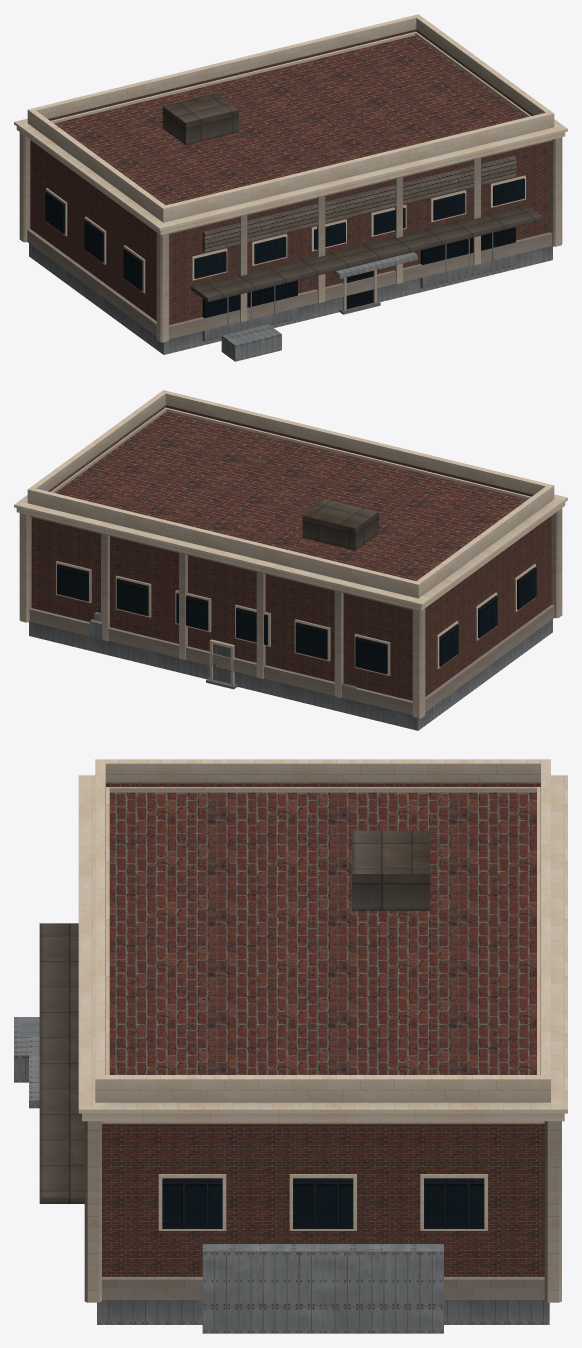
The model's file is maple-hardware-store_lod0.gltf.
3 views of the same model, one above another, from view 1: azimuth 30°, elevation 25°; view 2: azimuth 150°, elevation 25°; view 3: azimuth 270°, elevation 25° (orthographic). The views are drawn at different scales.
Parts seen in each view (by area): view 1: maple-hardware-store_upper, maple-hardware-store__v4_stone_detail, maple-hardware-store__v4_metal_detail, maple-hardware-store_fen_07-glass-curtain-blue_1_t, maple-hardware-store__sign_band, maple-hardware-store_base, maple-hardware-store_fen_04-limestone_2, maple-hardware-store_fen_14-steel-panel_0, maple-hardware-store__cart_corral, maple-hardware-store__parapet_back, maple-hardware-store__canopy; view 2: maple-hardware-store_upper, maple-hardware-store__v4_stone_detail, maple-hardware-store_fen_07-glass-curtain-blue_1_t, maple-hardware-store_base, maple-hardware-store_fen_04-limestone_2, maple-hardware-store__v4_metal_detail, maple-hardware-store__parapet_front, maple-hardware-store_fen_14-steel-panel_0; view 3: maple-hardware-store_upper, maple-hardware-store__v4_stone_detail, maple-hardware-store__lumber_rack, maple-hardware-store__v4_metal_detail, maple-hardware-store_fen_07-glass-curtain-blue_1_t, maple-hardware-store_base, maple-hardware-store_fen_04-limestone_2, maple-hardware-store__parapet_left, maple-hardware-store__cart_corral, maple-hardware-store__canopy.
Part boxes in pixels (<box>): maple-hardware-store_upper: <box>30,35,550,324</box>; maple-hardware-store__v4_stone_detail: <box>14,14,567,342</box>; maple-hardware-store__v4_metal_detail: <box>162,93,542,302</box>; maple-hardware-store_fen_07-glass-curtain-blue_1_t: <box>45,178,524,318</box>; maple-hardware-store__sign_band: <box>202,155,516,252</box>; maple-hardware-store_base: <box>29,243,552,354</box>; maple-hardware-store_fen_04-limestone_2: <box>46,175,525,310</box>; maple-hardware-store_fen_14-steel-panel_0: <box>202,233,515,341</box>; maple-hardware-store__cart_corral: <box>221,324,281,361</box>; maple-hardware-store__parapet_back: <box>48,29,416,120</box>; maple-hardware-store__canopy: <box>331,252,417,278</box>; maple-hardware-store_upper: <box>31,411,551,700</box>; maple-hardware-store__v4_stone_detail: <box>14,390,567,718</box>; maple-hardware-store_fen_07-glass-curtain-blue_1_t: <box>57,564,536,674</box>; maple-hardware-store_base: <box>29,619,552,730</box>; maple-hardware-store_fen_04-limestone_2: <box>56,561,535,685</box>; maple-hardware-store__v4_metal_detail: <box>302,498,378,550</box>; maple-hardware-store__parapet_front: <box>165,405,533,496</box>; maple-hardware-store_fen_14-steel-panel_0: <box>89,612,357,688</box>; maple-hardware-store_upper: <box>102,792,544,1276</box>; maple-hardware-store__v4_stone_detail: <box>78,759,567,1302</box>; maple-hardware-store__lumber_rack: <box>202,1244,443,1333</box>; maple-hardware-store__v4_metal_detail: <box>39,830,430,1203</box>; maple-hardware-store_fen_07-glass-curtain-blue_1_t: <box>162,1178,484,1228</box>; maple-hardware-store_base: <box>97,1300,549,1324</box>; maple-hardware-store_fen_04-limestone_2: <box>158,1174,487,1230</box>; maple-hardware-store__parapet_left: <box>106,782,540,786</box>; maple-hardware-store__cart_corral: <box>14,1017,39,1082</box>; maple-hardware-store__canopy: <box>29,1036,39,1108</box>.
Size of the model in its own units: 26.31 by 9.35 by 18.36.
